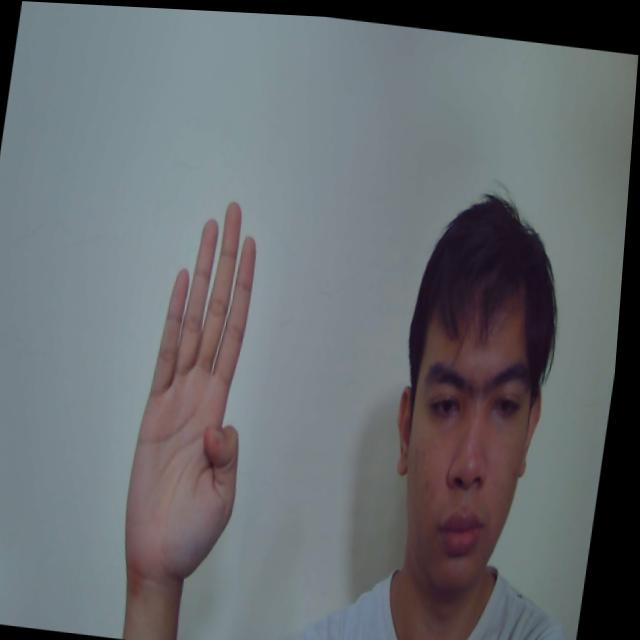B: (126, 190, 281, 578)
